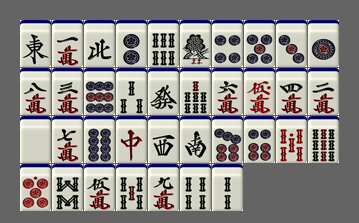0m: (244, 68, 275, 115)
0p: (20, 164, 51, 211)
0s: (276, 116, 307, 163)
1m: (52, 20, 83, 67)
1p: (308, 20, 339, 67)
1s: (180, 20, 211, 67)
1z: (20, 20, 51, 67)
2m: (308, 68, 339, 115)
2p: (116, 20, 147, 67)
2s: (212, 164, 243, 211)
2z: (180, 116, 211, 163)
3m: (52, 68, 83, 115)
3p: (276, 20, 307, 67)
3s: (116, 68, 147, 115)
3z: (148, 116, 179, 163)
4m: (276, 68, 307, 115)
4p: (212, 20, 243, 67)
4s: (180, 164, 211, 211)
4z: (84, 20, 115, 67)
5m: (84, 164, 115, 211)
5p: (244, 20, 275, 67)
5s: (116, 164, 147, 211)
5z: (20, 116, 51, 163)
6m: (212, 68, 243, 115)
6p: (244, 116, 275, 163)
6s: (148, 20, 179, 67)
6z: (148, 68, 179, 115)
7m: (52, 116, 83, 163)
7p: (212, 116, 243, 163)
7s: (180, 68, 211, 115)
7z: (116, 116, 147, 163)
8m: (20, 68, 51, 115)
8p: (84, 116, 115, 163)
8s: (52, 164, 83, 211)
9m: (148, 164, 179, 211)
9p: (84, 68, 115, 115)
9s: (308, 116, 339, 163)
